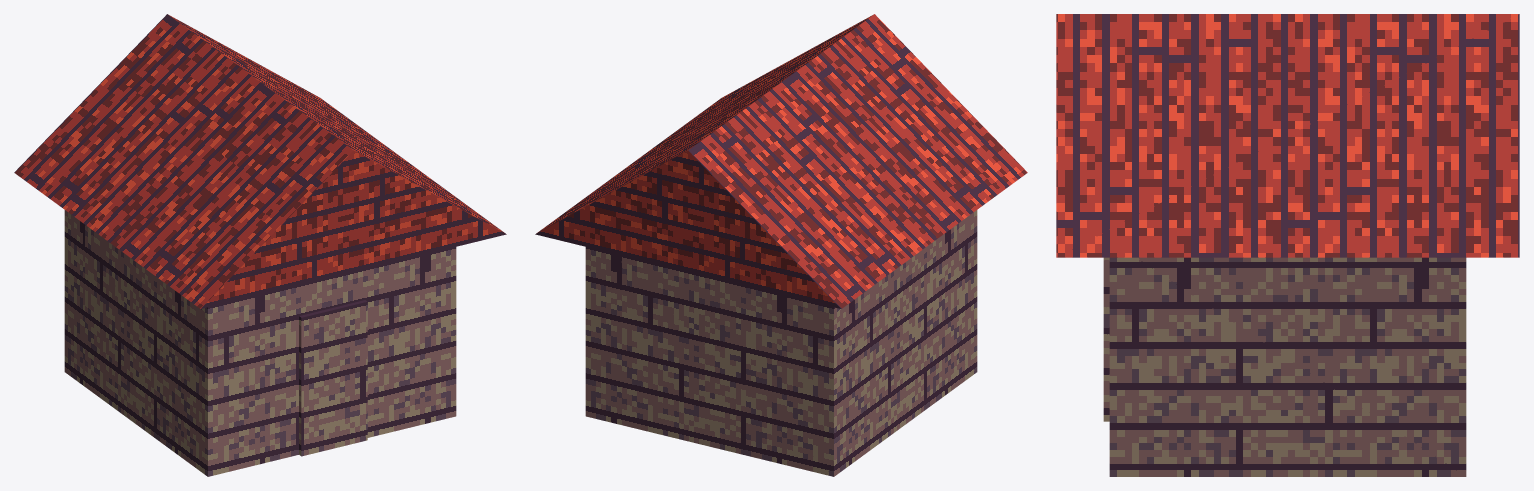
The model's file is a26_casas_de_sapo.glb.
3 renders of one model, left to right at view 1: azimuth 30°, elevation 25°; view 2: azimuth 150°, elevation 25°; view 3: azimuth 270°, elevation 25°, orthographic. The views are drawn at different scales.
Parts seen in each view (by area): view 1: a26_casas_de_sapo; view 2: a26_casas_de_sapo; view 3: a26_casas_de_sapo.
Boxes of the visible parts, left/top/right/bottom form: a26_casas_de_sapo: left=14, top=14, right=506, bottom=476; a26_casas_de_sapo: left=535, top=14, right=1027, bottom=476; a26_casas_de_sapo: left=1056, top=14, right=1519, bottom=476.
Bounding box in the file's own units: 3.7 × 3.6 × 3.9.
2 materials, 2 textured.
